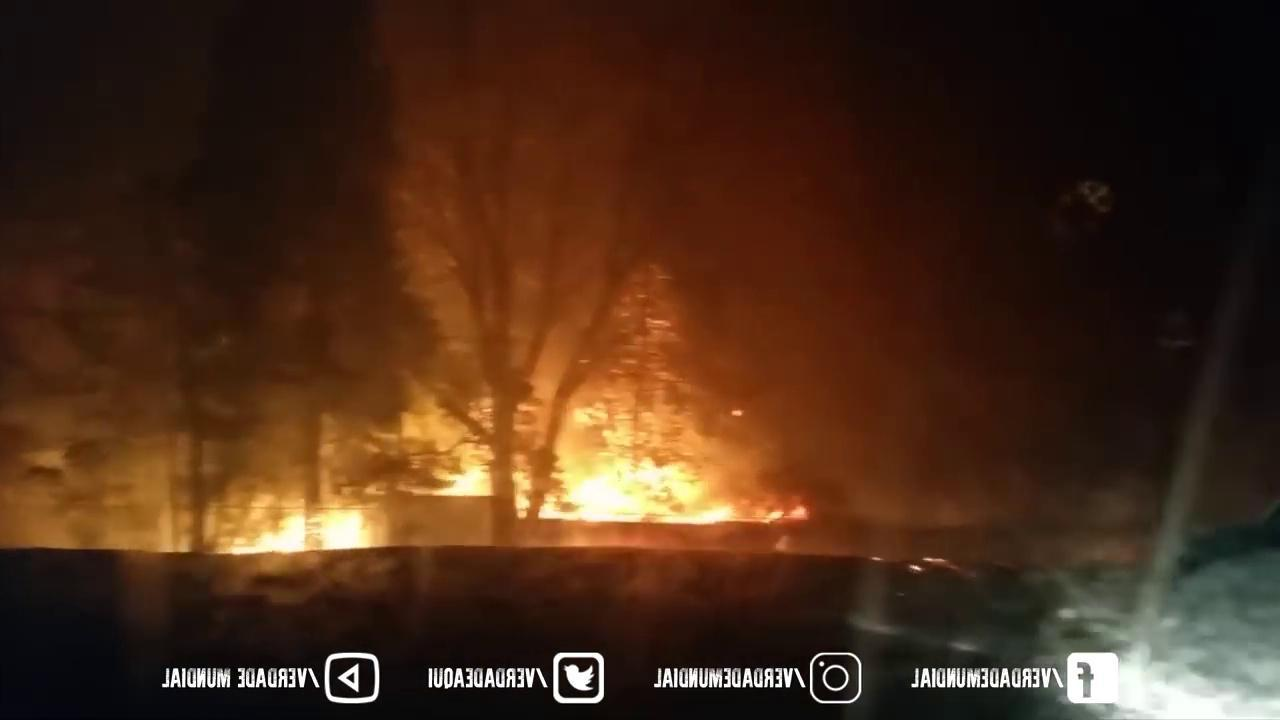Fire: (514, 374, 818, 528), (224, 501, 376, 553), (414, 431, 495, 496)
